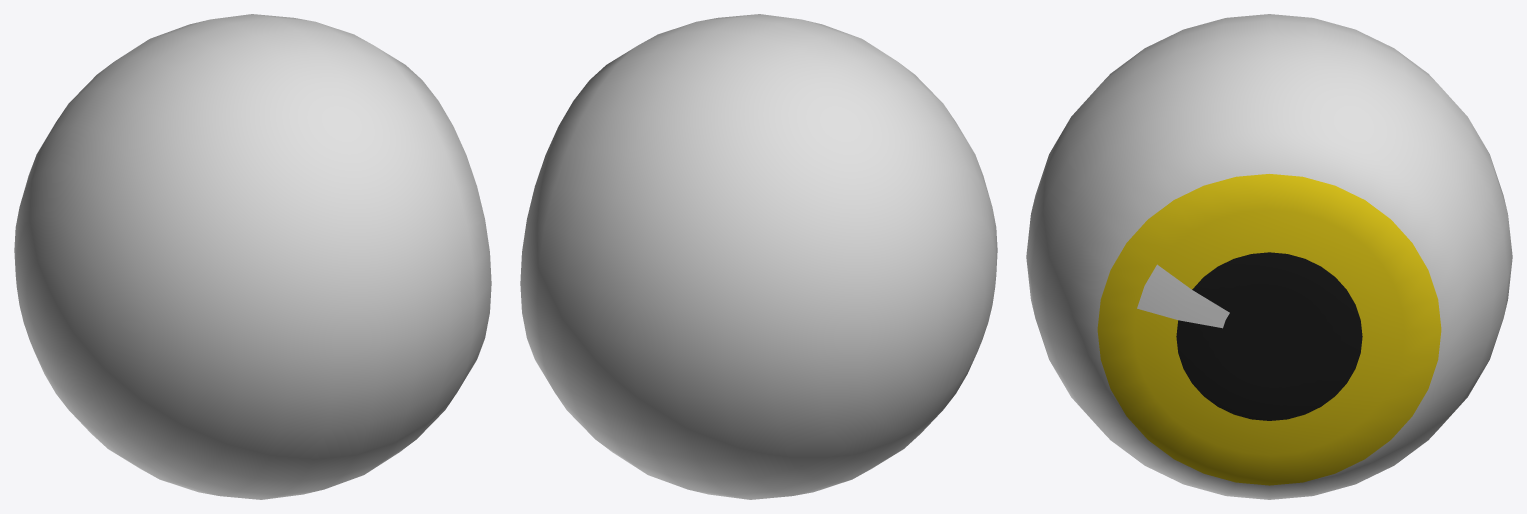
Rendered from Eye.fbx.
3 views of the same model, side by side, from view 1: azimuth 30°, elevation 25°; view 2: azimuth 150°, elevation 25°; view 3: azimuth 270°, elevation 25° (orthographic).
Visible parts, largest first — view 1: Sphere; view 2: Sphere; view 3: Sphere.
Boxes of the visible parts, x1,y1,x2,y2 form: Sphere: (14, 14, 491, 499); Sphere: (520, 14, 997, 499); Sphere: (1026, 14, 1512, 499).
Bounding box in the file's own units: 178 × 200 × 200.
